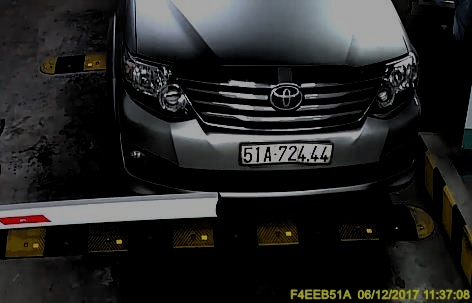plate: (238, 137, 336, 171)
